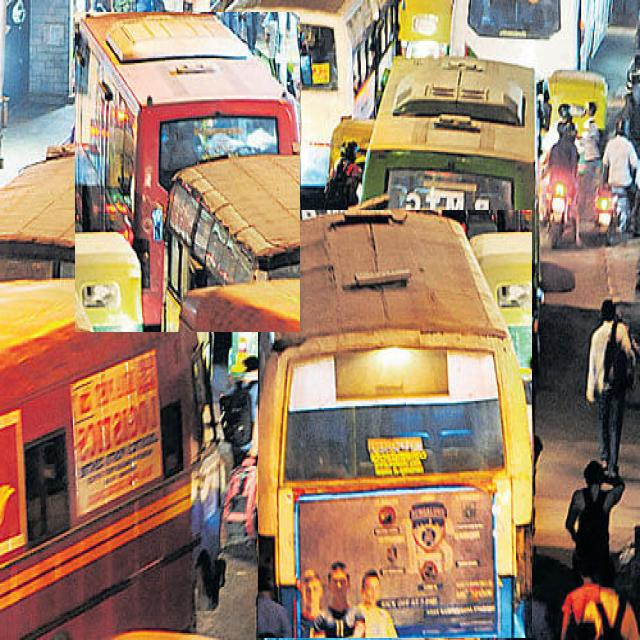autorickshaw: (229, 232, 320, 376)
bus: (258, 210, 532, 638), (0, 278, 229, 638), (75, 12, 300, 332), (361, 57, 539, 272), (228, 0, 399, 189), (451, 1, 610, 80)
motorcycle: (595, 118, 639, 241)
